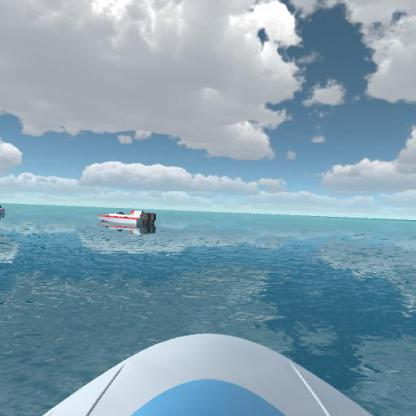usv3: (97, 206, 158, 238), (0, 198, 10, 219)
